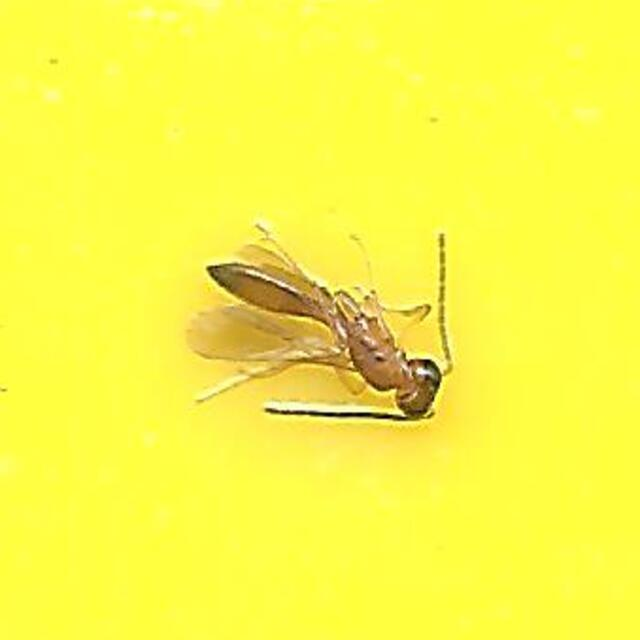Hymenoptera: (189, 213, 451, 427)
